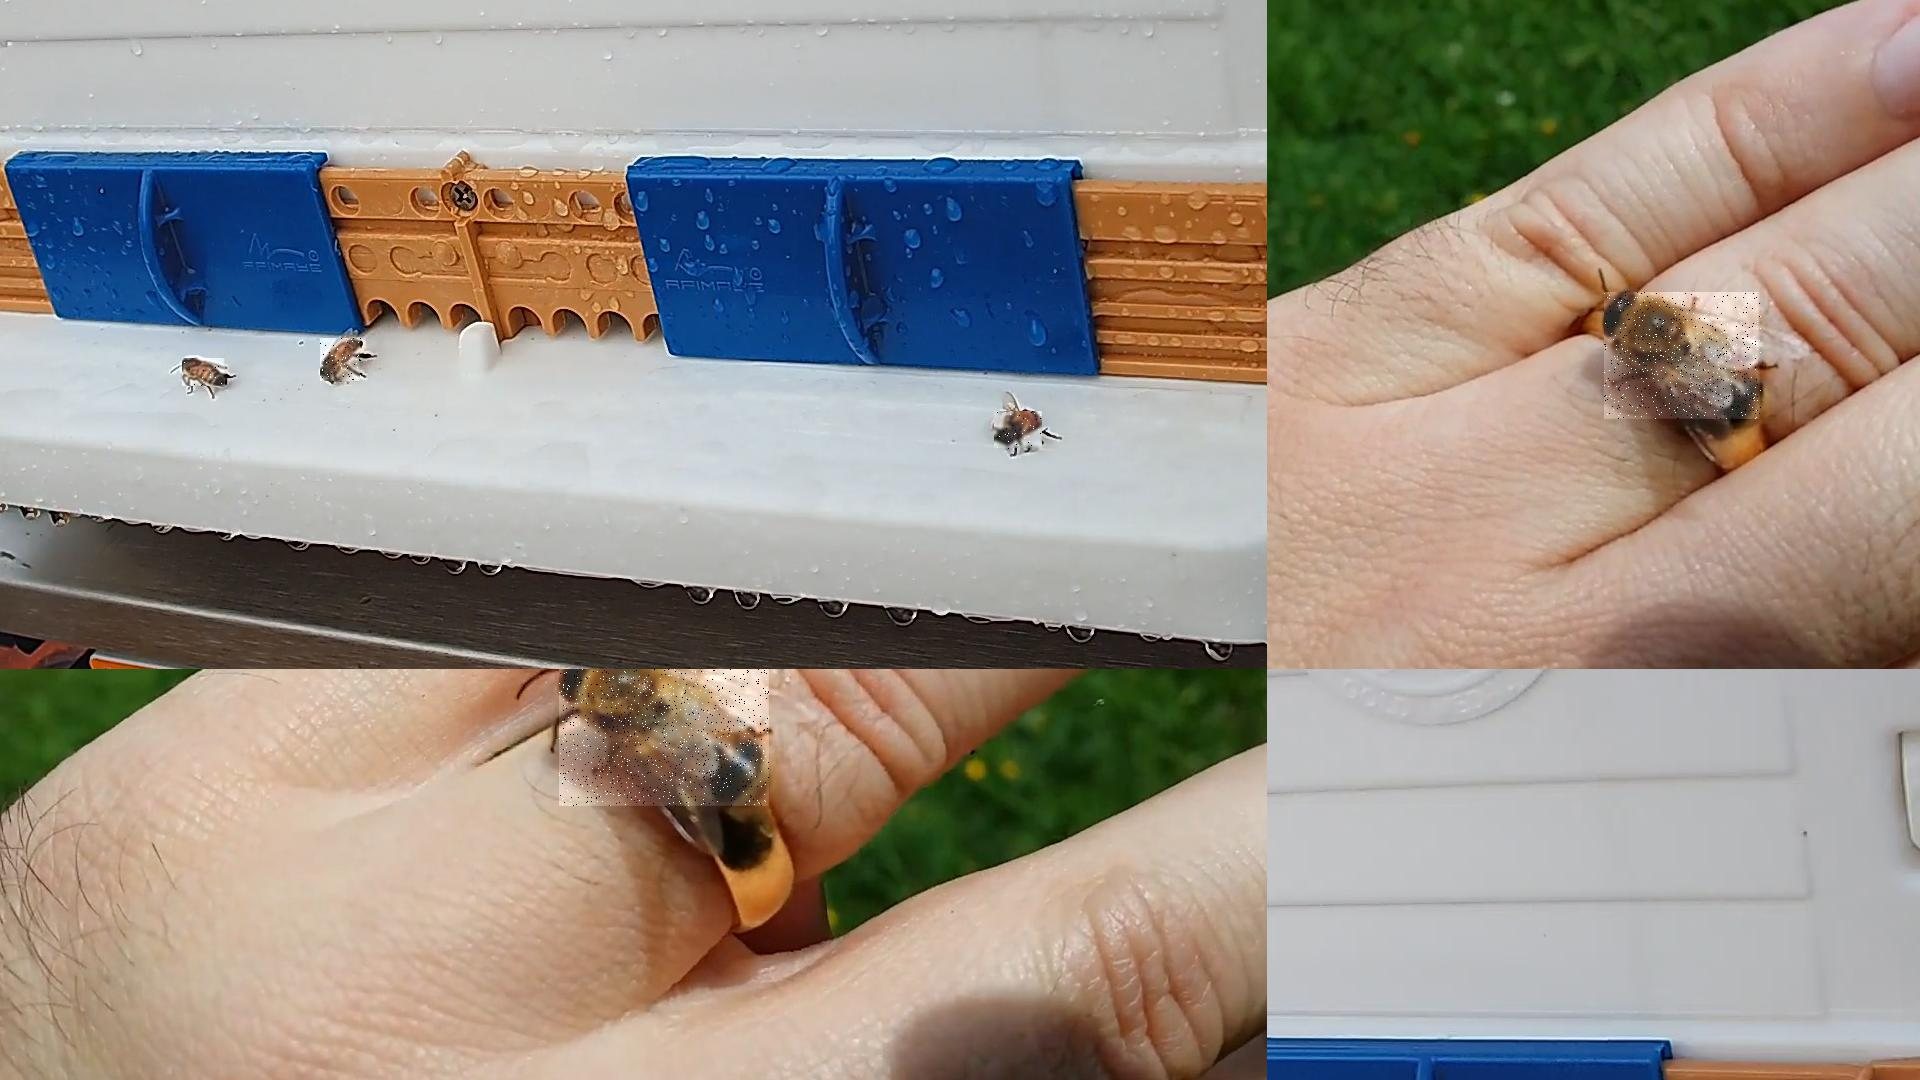bee: (994, 411, 1043, 451), (320, 338, 363, 382), (183, 359, 228, 386)
drone: (559, 669, 771, 808), (1605, 293, 1763, 421)
